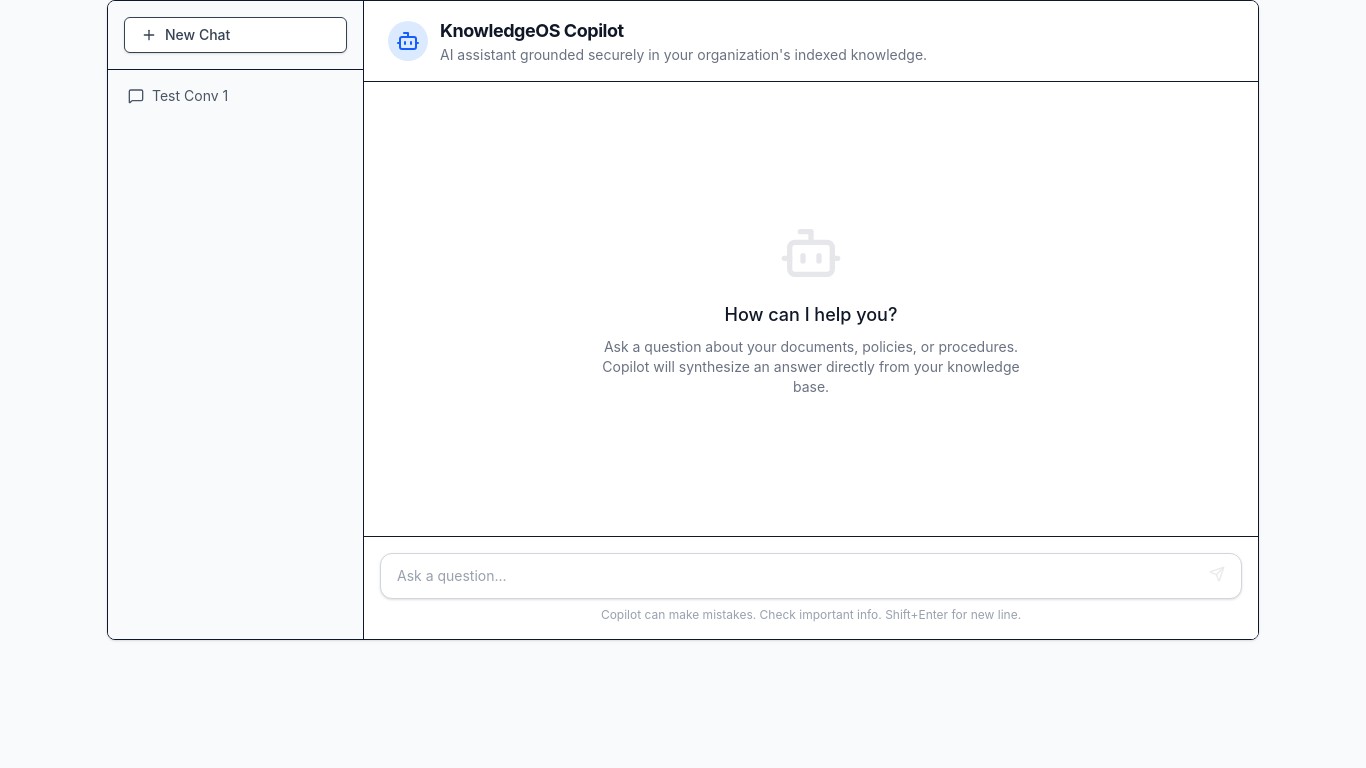
Test: Copilot UI Component Phase 21 › selecting a conversation loads messages (Req 3)
Expected: the text "Test Conv 1" is shown, x1=152 y1=86 x2=228 y2=106
Click the button "Test Conv 1": click(236, 96) x1=116 y1=78 x2=355 y2=114
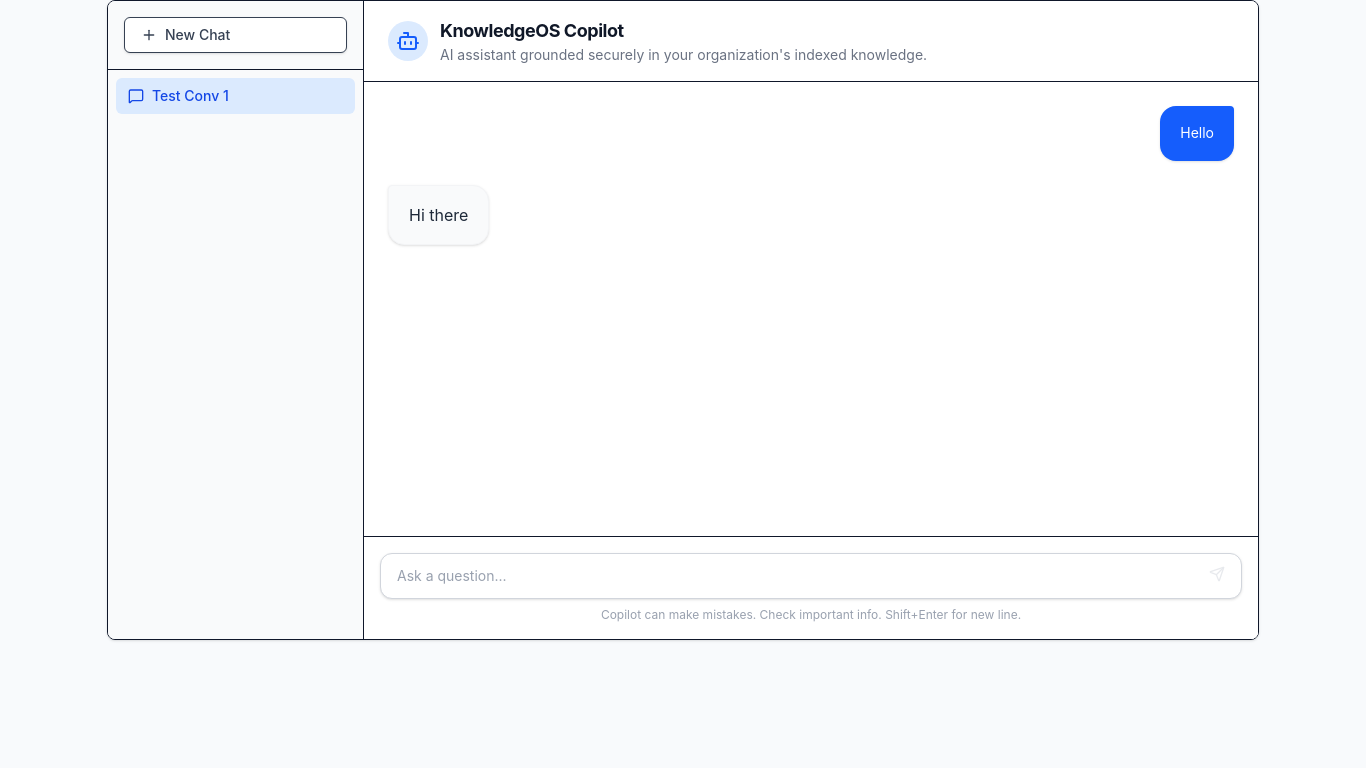
Expected: the text "Hello" is shown, x1=1180 y1=124 x2=1214 y2=141
Expected: the text "Hi there" is shown, x1=409 y1=205 x2=468 y2=225
